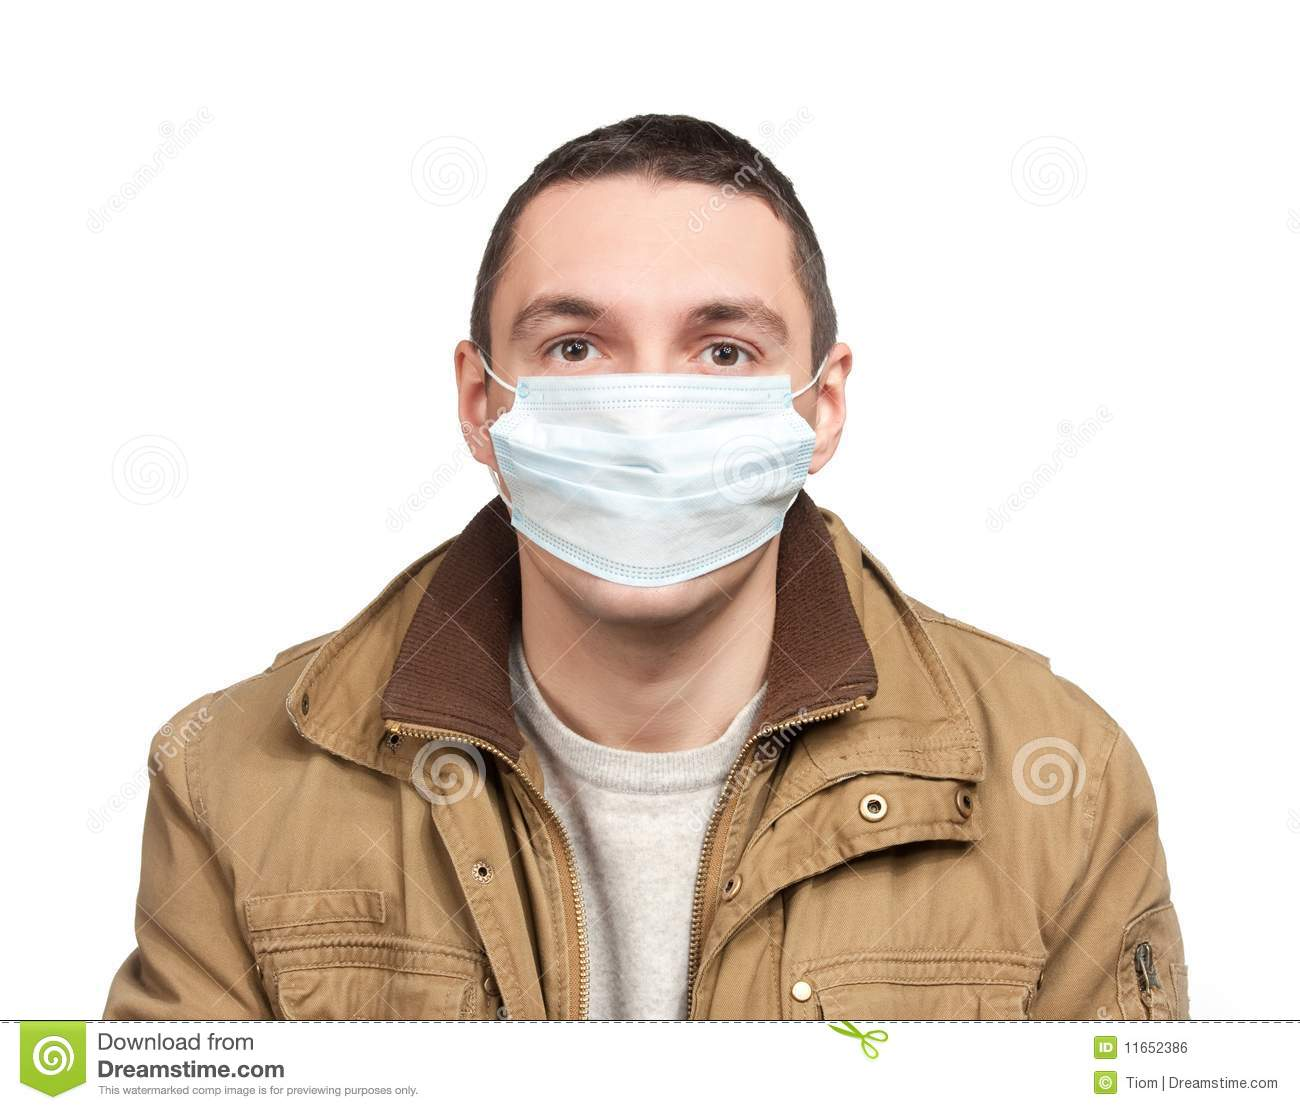mask: (491, 371, 808, 588)
